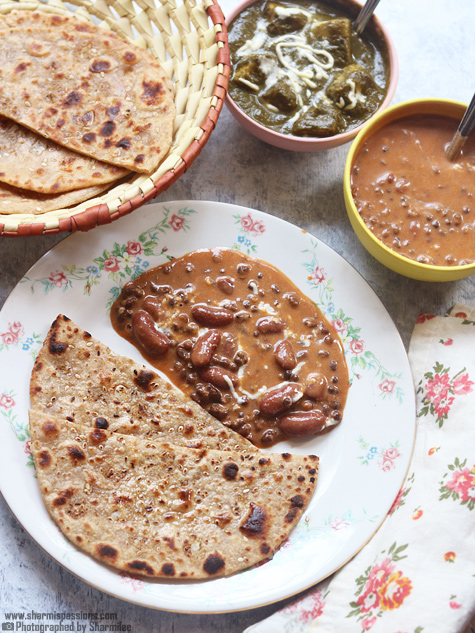curry: (106, 223, 358, 435), (349, 93, 475, 265), (229, 4, 387, 137)
roti: (28, 379, 297, 576), (1, 7, 174, 198)
